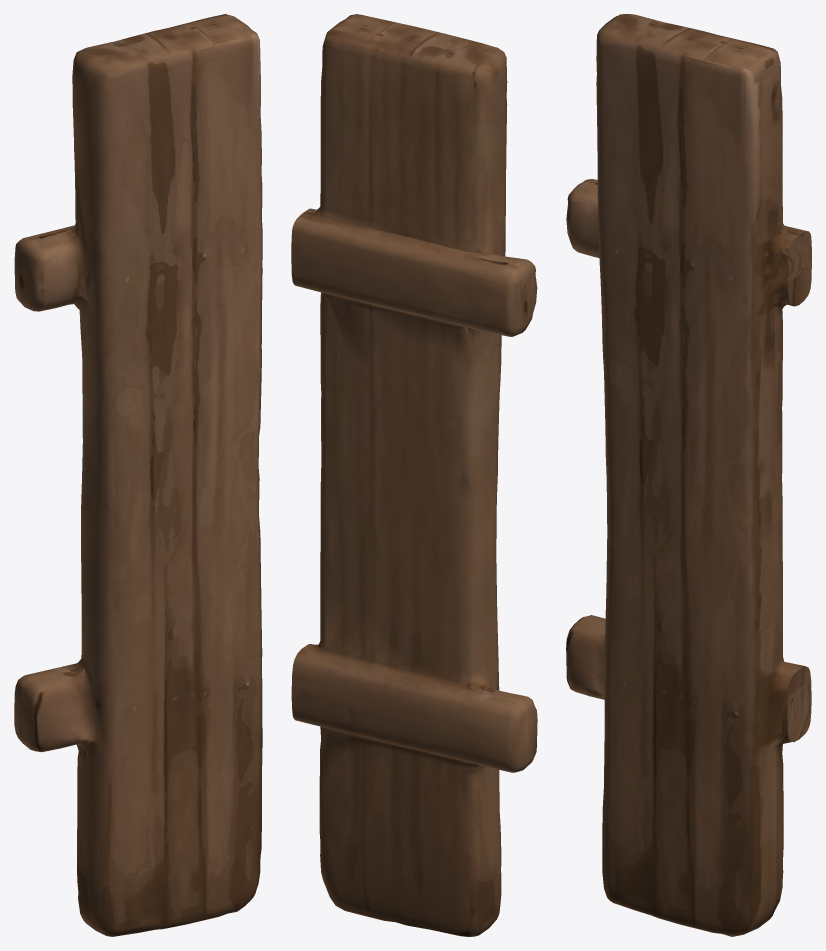
The model's file is FencePicketEnd.glb.
The picture shows the model from 3 angles, left to right: view 1: azimuth 30°, elevation 25°; view 2: azimuth 150°, elevation 25°; view 3: azimuth 330°, elevation 25°; orthographic projection.
Visible parts, largest first — view 1: FencePicketEnd; view 2: FencePicketEnd; view 3: FencePicketEnd.
Part boxes in pixels (x1,y1,x2,y2): FencePicketEnd: (14, 14, 262, 936); FencePicketEnd: (291, 14, 537, 936); FencePicketEnd: (566, 14, 811, 936).
Size of the model in its own units: 0.3042 by 1.14 by 0.1078.
1 material, 1 textured.
